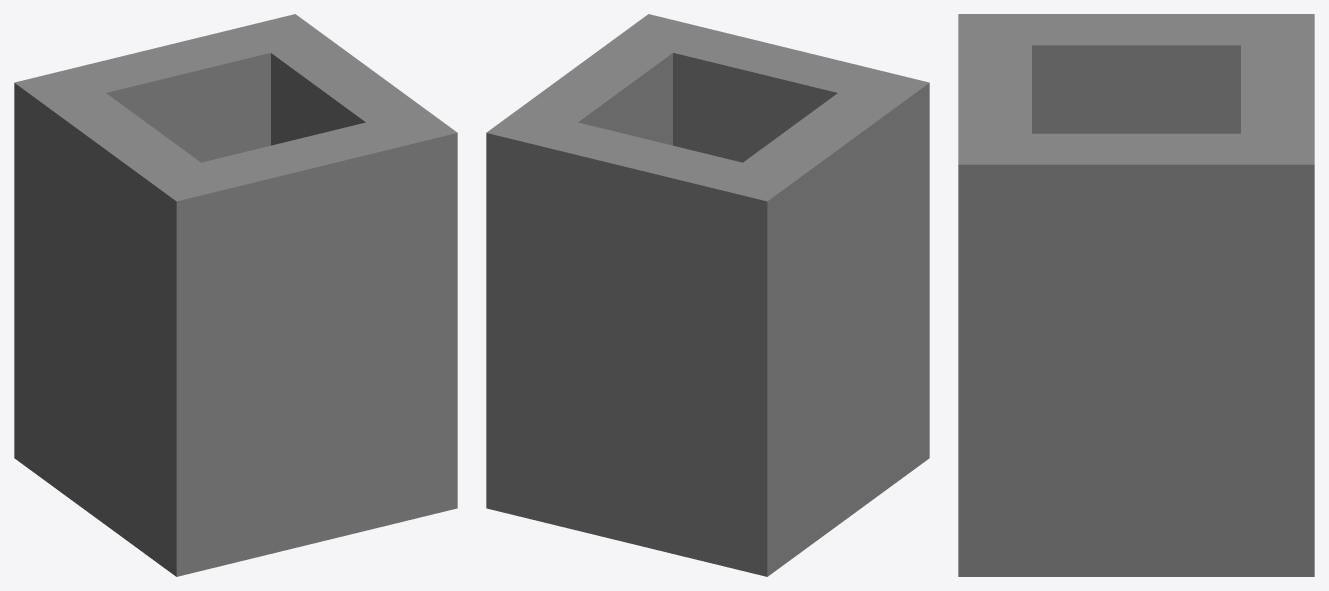
The model's file is ConnectorBottom.obj.
The picture shows the model from 3 angles, left to right: view 1: azimuth 30°, elevation 25°; view 2: azimuth 150°, elevation 25°; view 3: azimuth 270°, elevation 25°; orthographic projection. The views are drawn at different scales.
Parts seen in each view (by area): view 1: FluidConduit_Cube.022; view 2: FluidConduit_Cube.022; view 3: FluidConduit_Cube.022.
Part boxes in pixels (<box>): FluidConduit_Cube.022: <box>14,14,457,576</box>; FluidConduit_Cube.022: <box>486,14,929,576</box>; FluidConduit_Cube.022: <box>958,14,1314,576</box>.
Bounding box in the file's own units: 0.3625 × 0.4625 × 0.3625.
